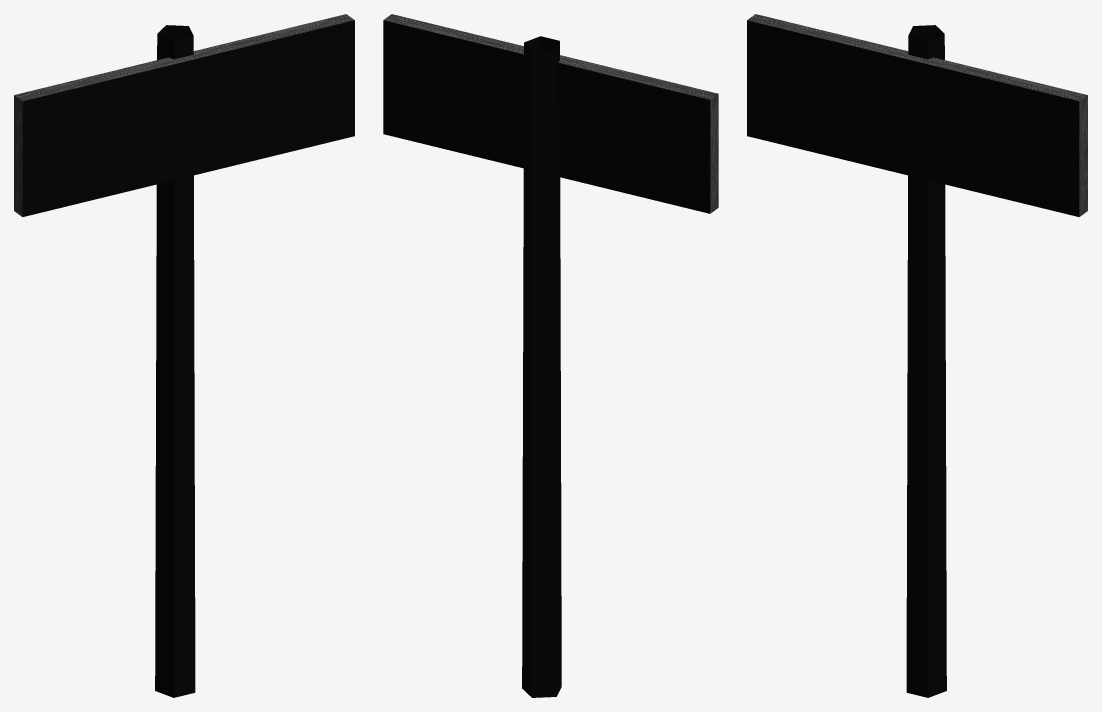
File: SM_sign_lake.fbx
3 views of the same model, side by side, from view 1: azimuth 30°, elevation 25°; view 2: azimuth 150°, elevation 25°; view 3: azimuth 330°, elevation 25° (orthographic).
Visible parts, largest first — view 1: sign_lake; view 2: sign_lake; view 3: sign_lake.
Boxes of the visible parts, x1,y1,x2,y2 form: sign_lake: (14, 14, 354, 697); sign_lake: (383, 14, 718, 697); sign_lake: (747, 14, 1087, 697).
Size of the model in its own units: 0.9 by 1.7 by 0.11.
